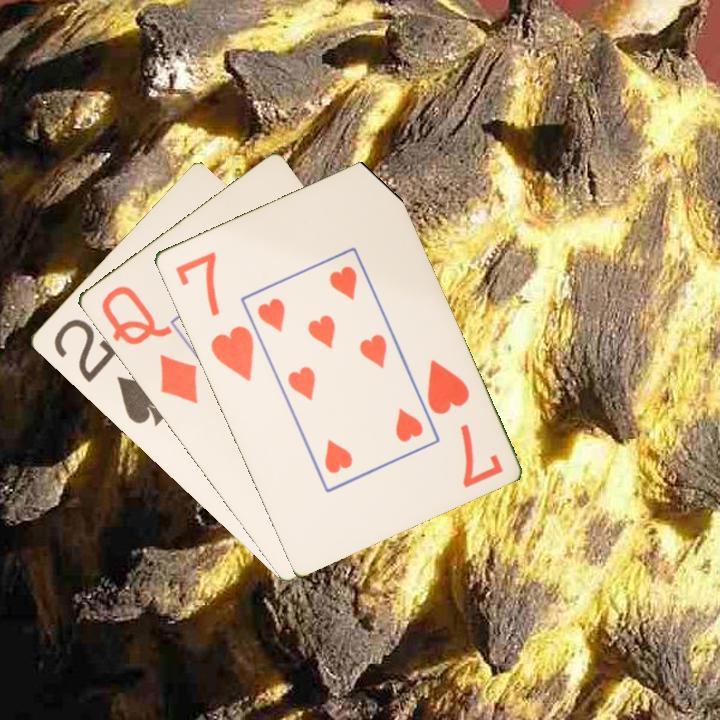2s: (49, 315, 172, 429)
7h: (171, 248, 257, 384), (422, 355, 506, 490)
Qd: (97, 281, 201, 407)
